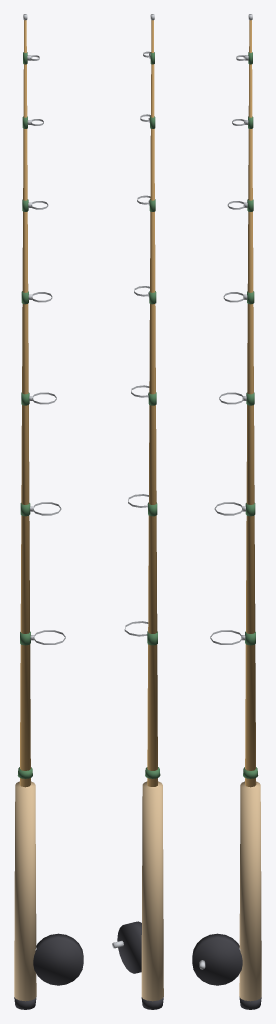
File: fly_rod.glb
3 views of the same model, side by side, from view 1: azimuth 90°, elevation 25°; view 2: azimuth 210°, elevation 25°; view 3: azimuth 270°, elevation 25° (orthographic).
Visible parts, largest first — view 1: fly_rod; view 2: fly_rod; view 3: fly_rod.
Part boxes in pixels (bbox=[...]): fly_rod: bbox=[14, 14, 83, 1009]; fly_rod: bbox=[112, 14, 163, 1009]; fly_rod: bbox=[192, 14, 261, 1009].
Size of the model in its own units: 0.0644 by 2.15 by 0.137.
